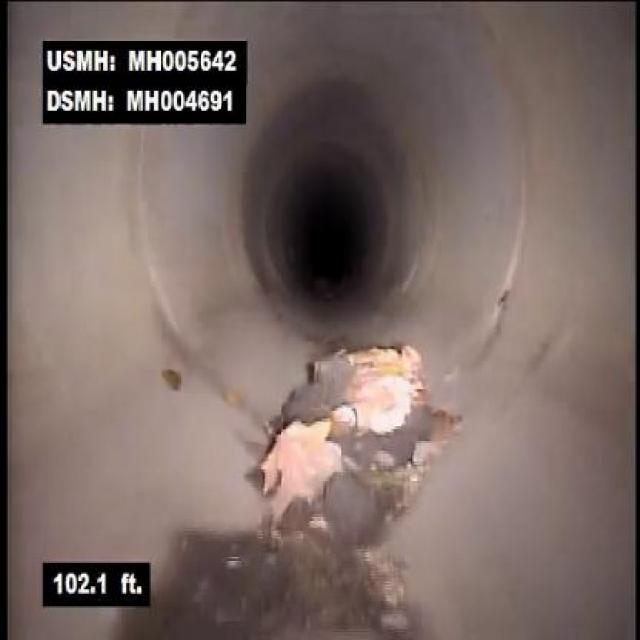Debris: (240, 311, 474, 551)
